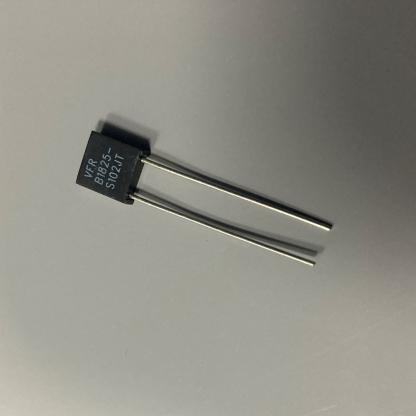SP0000007: (48, 93, 338, 332)
